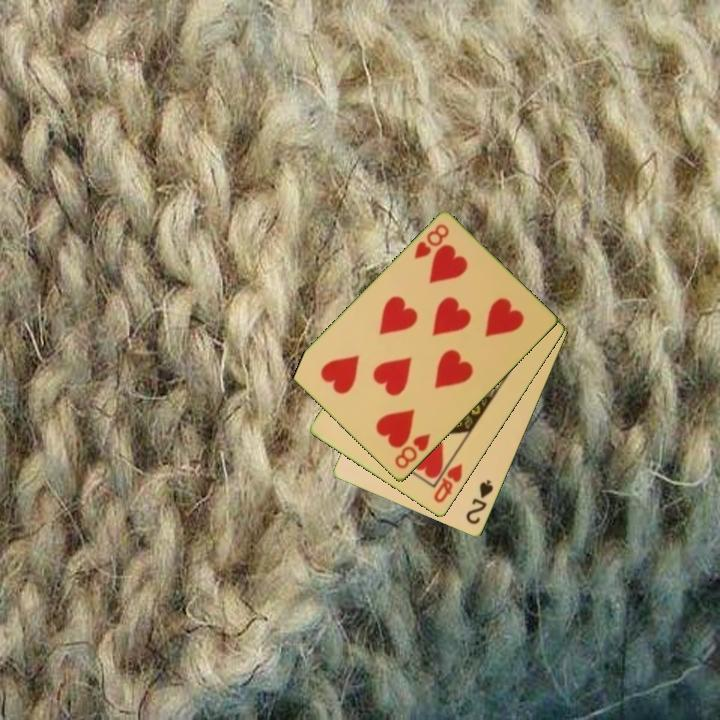2s: (463, 476, 496, 528)
8h: (391, 430, 434, 472), (410, 221, 452, 262)
Qh: (430, 454, 466, 506)
